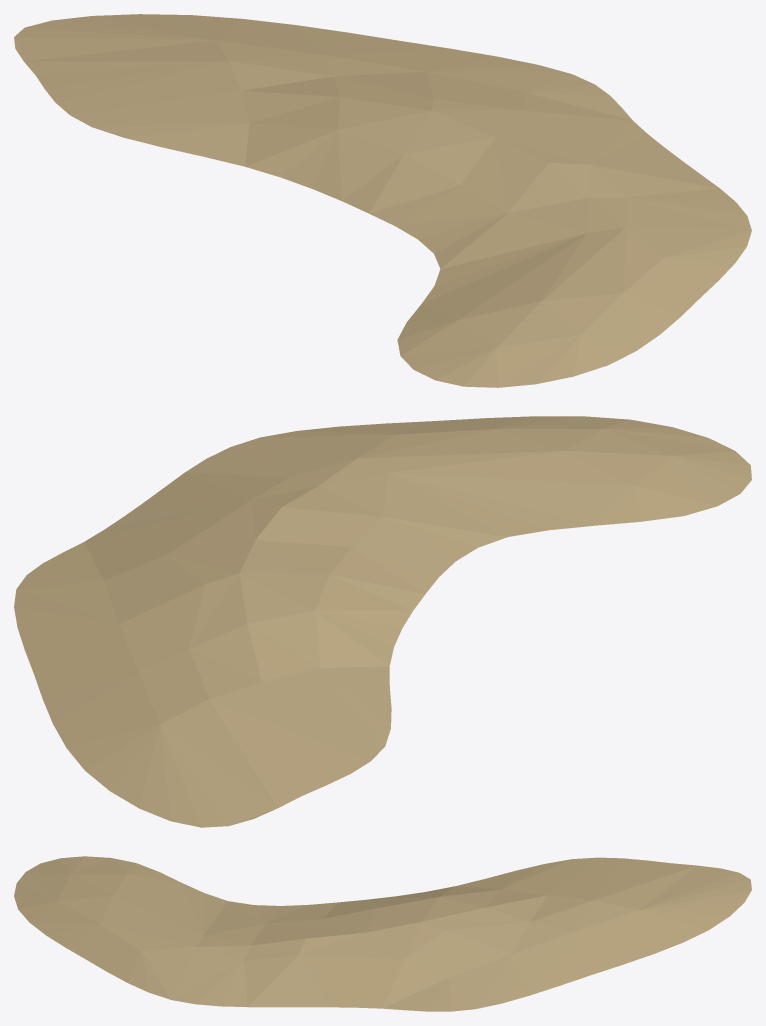
File: SM_Env_Beach_Pile_02.glb
3 views of the same model, one above another, from view 1: azimuth 30°, elevation 25°; view 2: azimuth 150°, elevation 25°; view 3: azimuth 270°, elevation 25° (orthographic). The views are drawn at different scales.
Parts seen in each view (by area): view 1: SM_Env_Beach_Pile_02_part00; view 2: SM_Env_Beach_Pile_02_part00; view 3: SM_Env_Beach_Pile_02_part00.
Boxes of the visible parts, left/top/right/bottom form: SM_Env_Beach_Pile_02_part00: left=14, top=14, right=751, bottom=387; SM_Env_Beach_Pile_02_part00: left=14, top=416, right=751, bottom=827; SM_Env_Beach_Pile_02_part00: left=14, top=856, right=751, bottom=1011.
Size of the model in its own units: 2.59 by 0.1984 by 5.21.
Materials: 1 (1 with a texture image).
